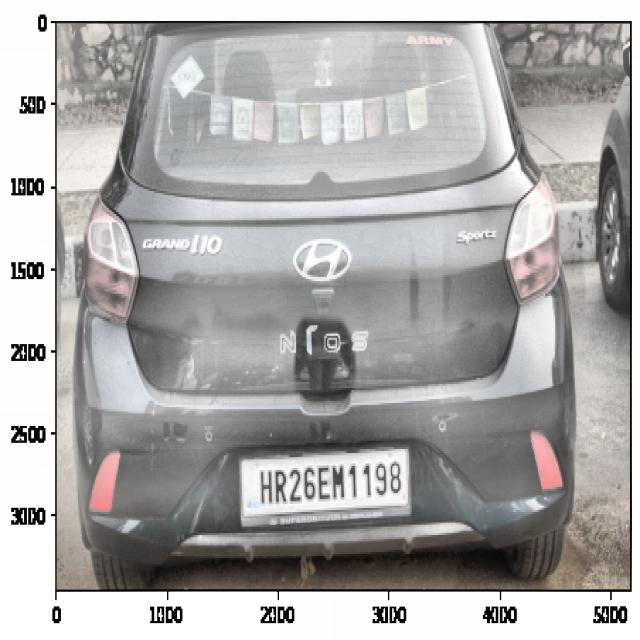license_plate: (256, 452, 407, 508)
